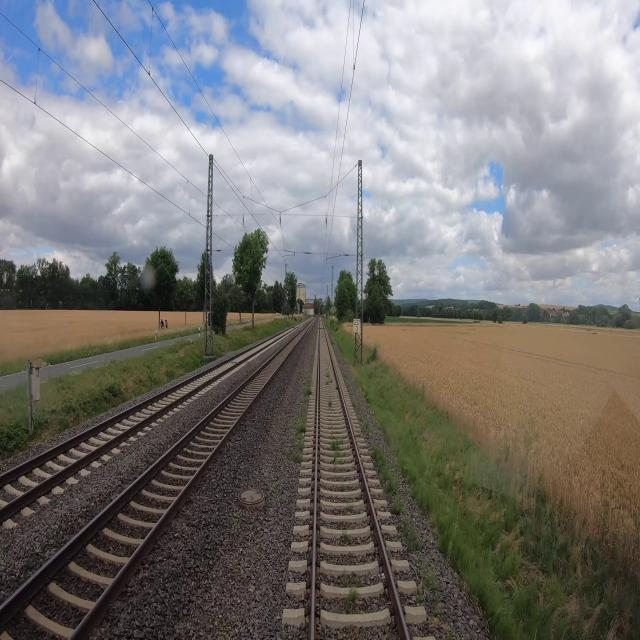Plant: (373, 445, 405, 512), (352, 399, 374, 432), (403, 518, 421, 550), (332, 438, 344, 472), (425, 565, 439, 591), (416, 579, 426, 605), (307, 331, 317, 356), (296, 415, 306, 433), (304, 376, 312, 395), (291, 452, 303, 463), (341, 531, 352, 543), (341, 569, 348, 587), (355, 575, 364, 587), (349, 589, 357, 602), (344, 601, 351, 614), (344, 379, 352, 390), (340, 485, 346, 493), (299, 439, 303, 449), (310, 356, 314, 364), (325, 380, 330, 386), (328, 399, 332, 406), (331, 340, 335, 346), (326, 372, 330, 377), (328, 332, 331, 338), (325, 367, 328, 371)
